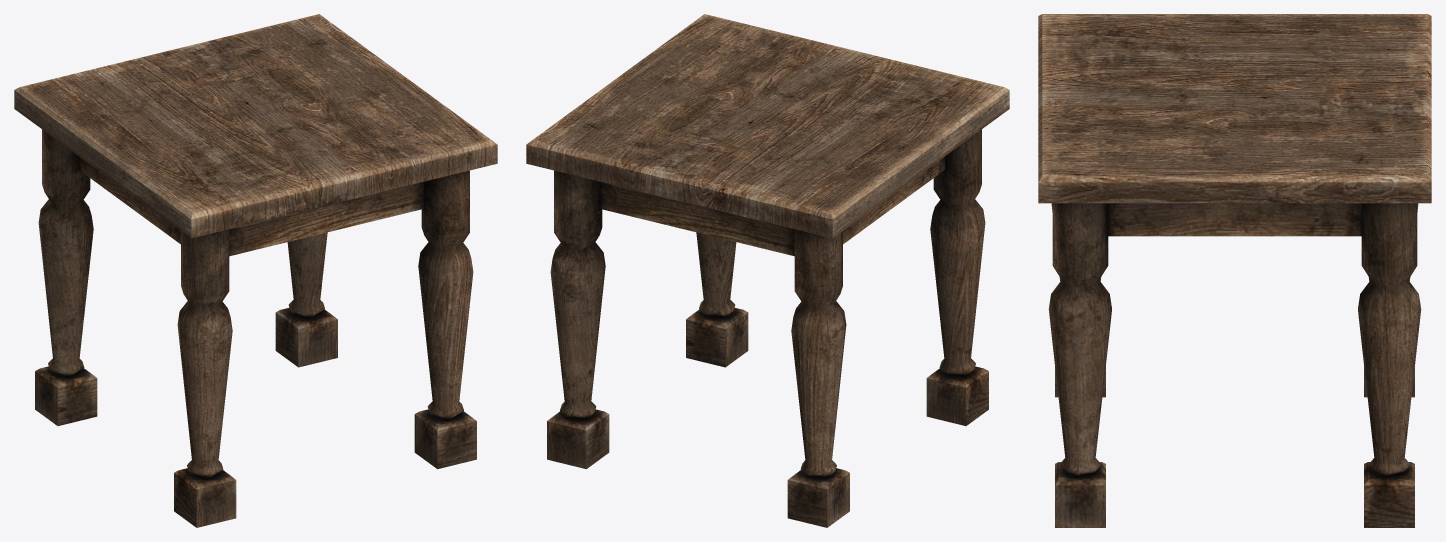
File: table_wood_small.dae
3 renders of one model, left to right at view 1: azimuth 30°, elevation 25°; view 2: azimuth 150°, elevation 25°; view 3: azimuth 270°, elevation 25°, orthographic. The views are drawn at different scales.
Parts seen in each view (by area): view 1: table_wood_small_mesh; view 2: table_wood_small_mesh; view 3: table_wood_small_mesh.
Part boxes in pixels (left/top/right/bottom): table_wood_small_mesh: left=14, top=14, right=497, bottom=527; table_wood_small_mesh: left=526, top=14, right=1009, bottom=527; table_wood_small_mesh: left=1038, top=14, right=1431, bottom=527.
Bounding box in the file's own units: 0.8 × 0.8 × 0.8.
